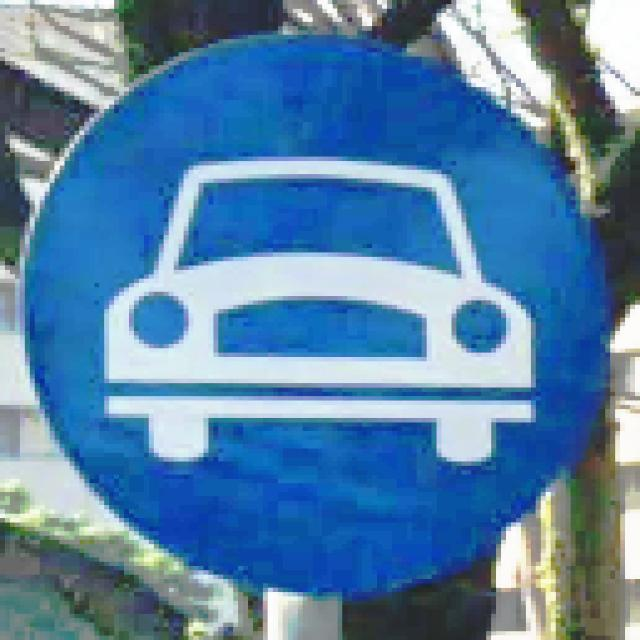car: (15, 26, 610, 597)
